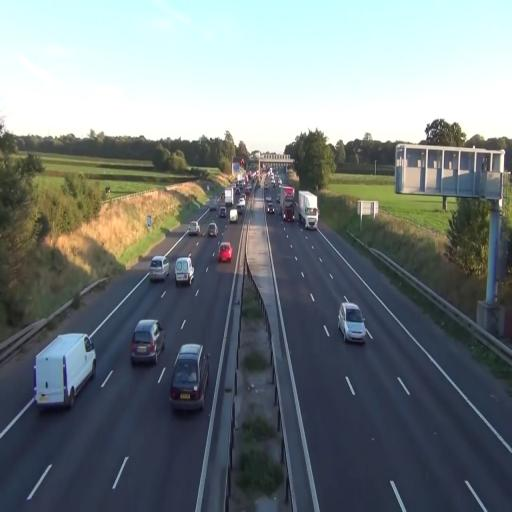vehicle: (34, 332, 96, 411), (170, 344, 207, 414), (130, 318, 164, 368), (338, 300, 368, 344), (298, 190, 319, 230), (298, 190, 318, 230), (175, 256, 194, 287), (198, 215, 218, 239), (150, 256, 168, 282), (217, 241, 233, 263)
